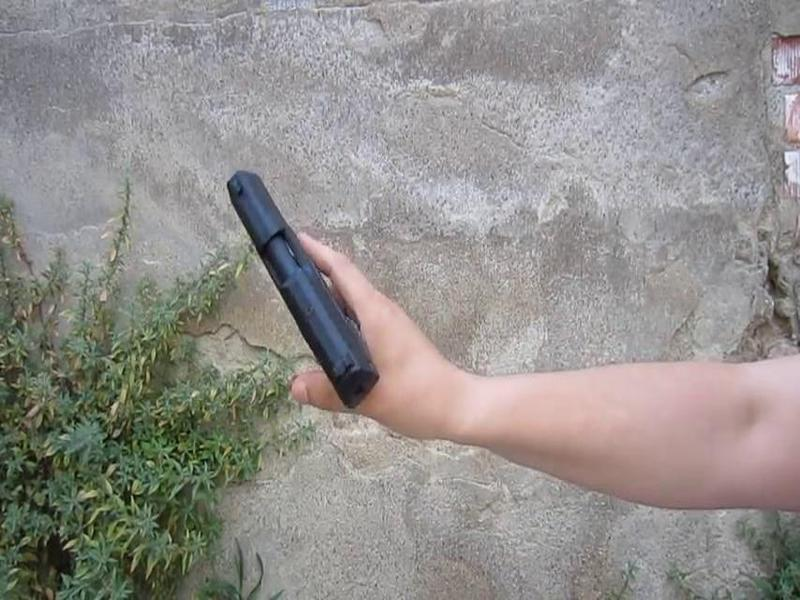Pistola: (181, 163, 407, 423)
